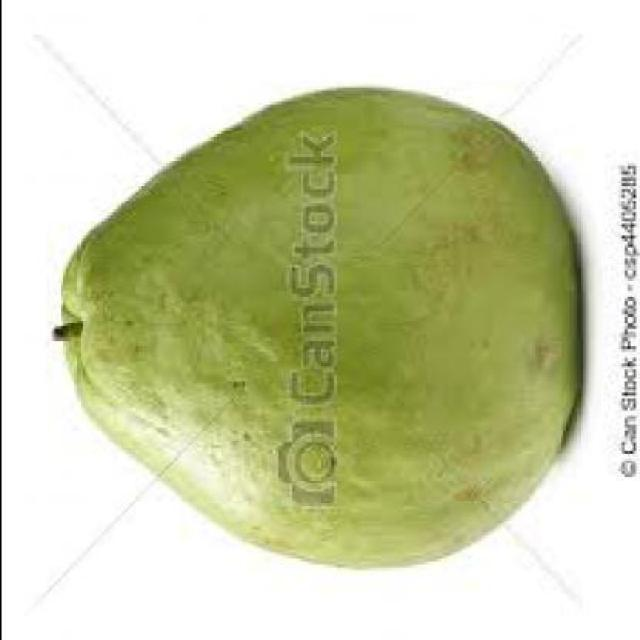BIODEGRADABLE: (48, 93, 578, 573)
